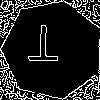T: (27, 25, 59, 71)
